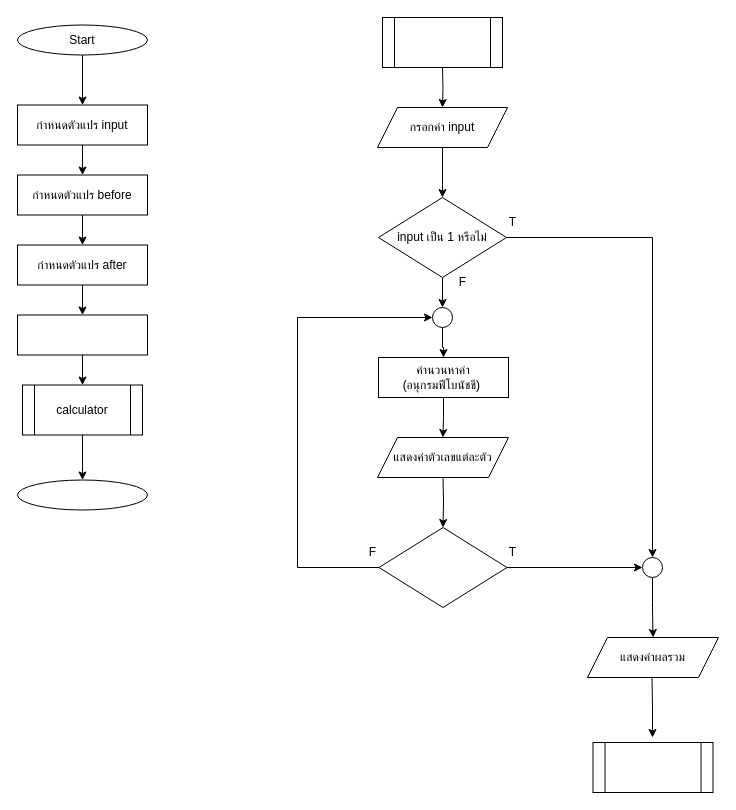
The diagram is 736 pixels wide and 810 high, and some of its shapes have lost their labels. The box of each missing label's shape, as (x1, y1, x2, y2) in pixels:
End: (16, 479, 148, 510)
End calculator: (592, 742, 713, 792)
Star calculator: (382, 16, 502, 68)
กำหนดตัวแปร sum: (16, 314, 148, 355)
วนครบแล้วหรือไม่: (378, 526, 507, 608)
